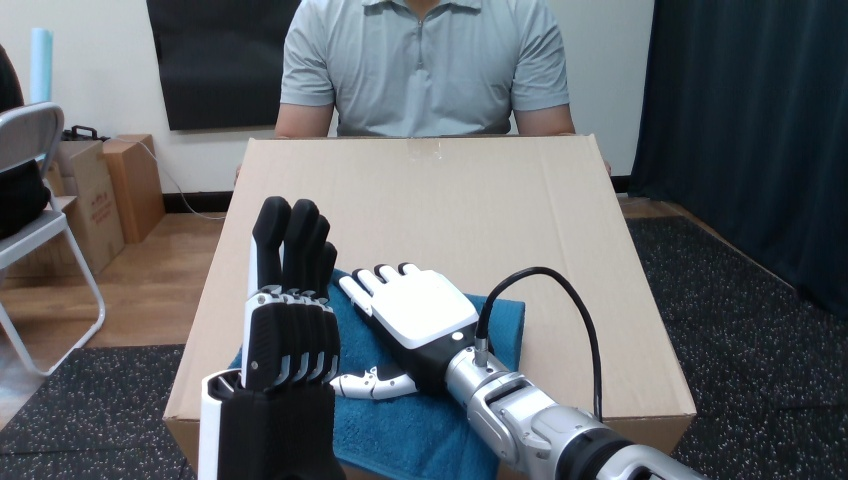left robot hand: (332, 263, 705, 479), (198, 196, 344, 479), (486, 273, 596, 416)
